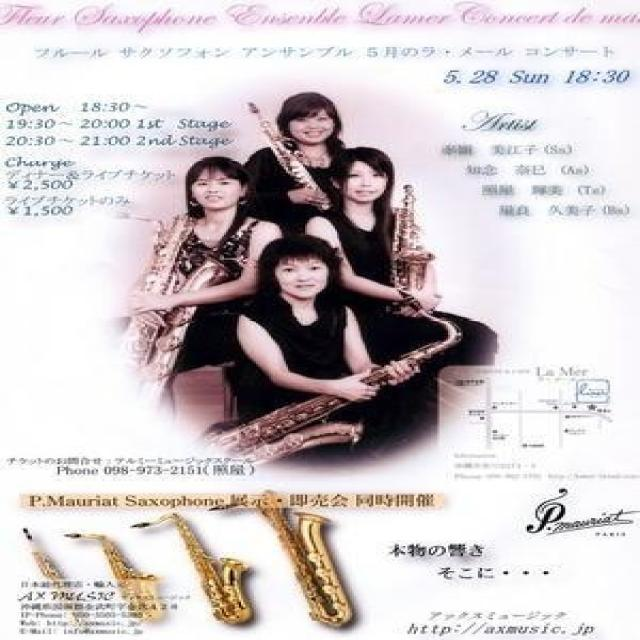saxophone: (212, 294, 463, 475), (113, 200, 240, 402), (204, 490, 364, 634), (128, 511, 259, 628), (61, 528, 172, 624)
